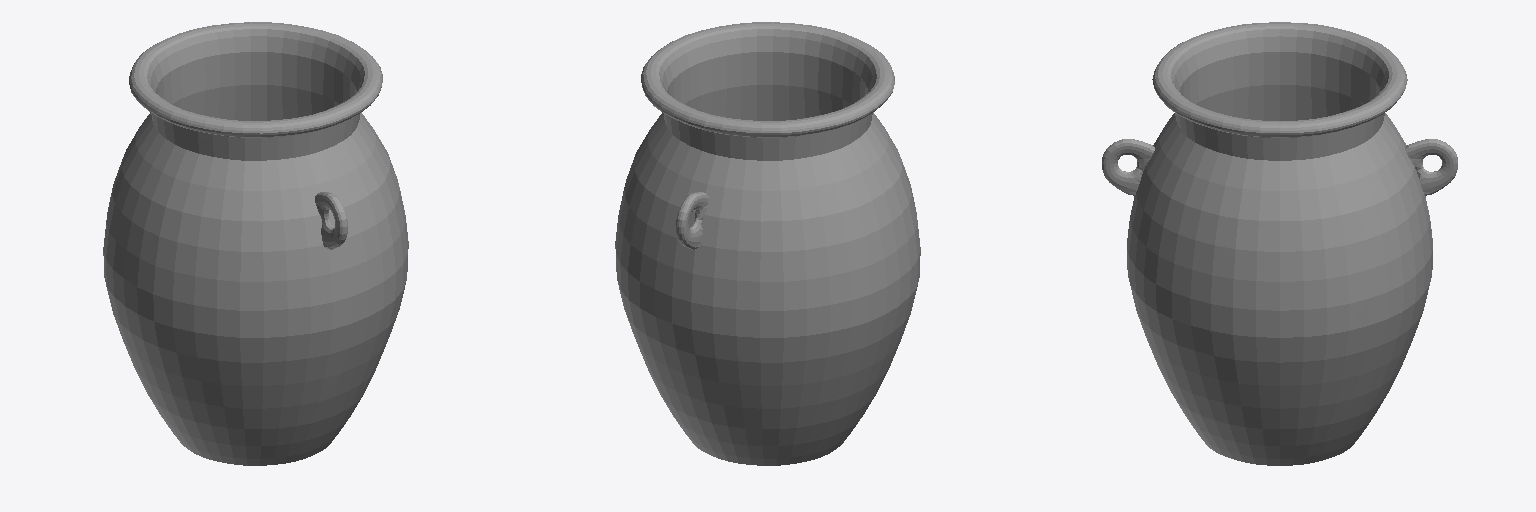
The model's file is AdjustedVase.obj.
3 renders of one model, left to right at view 1: azimuth 30°, elevation 25°; view 2: azimuth 150°, elevation 25°; view 3: azimuth 270°, elevation 25°, orthographic.
Visible parts, largest first — view 1: Ancient_Vase; view 2: Ancient_Vase; view 3: Ancient_Vase.
Boxes of the visible parts, <box> form: Ancient_Vase: <box>103,22,408,465</box>; Ancient_Vase: <box>615,22,920,465</box>; Ancient_Vase: <box>1102,22,1457,465</box>.
Bounding box in the file's own units: 0.5274 × 0.6979 × 0.6169.